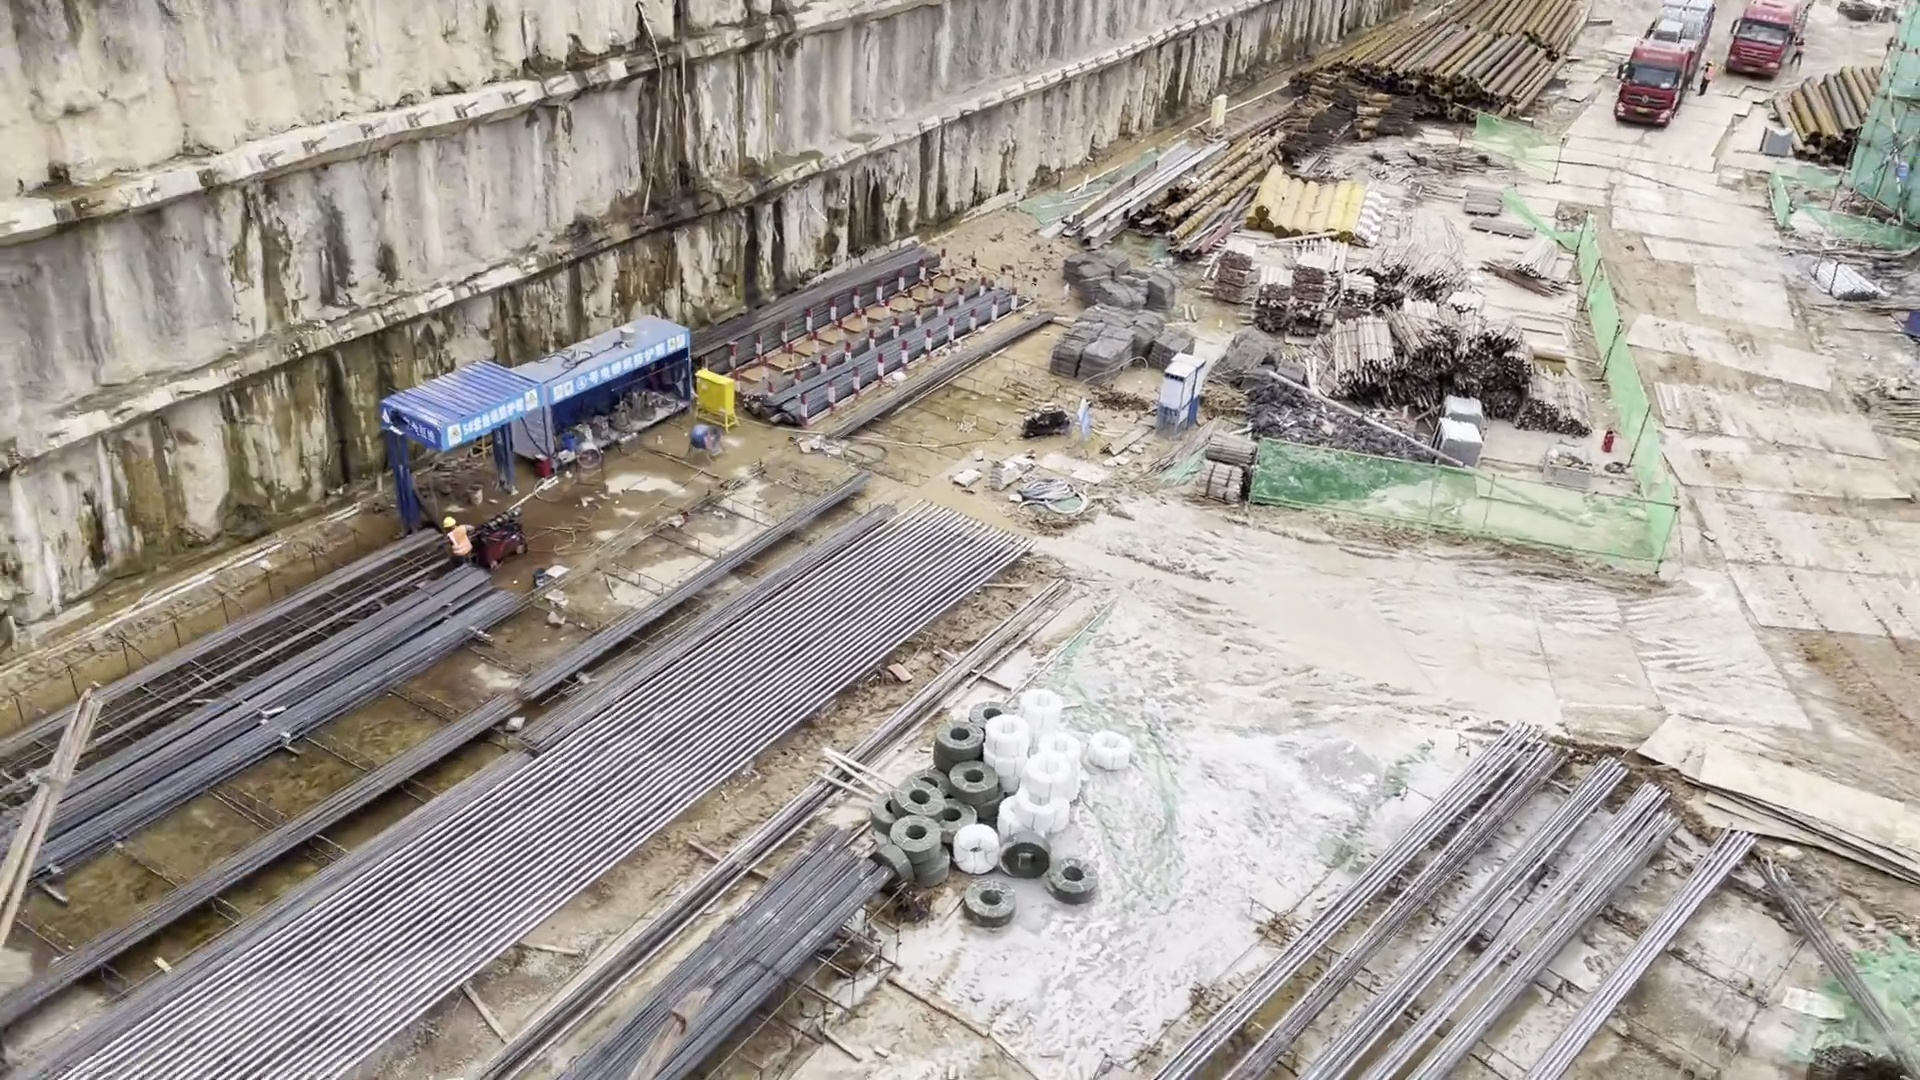ebox: (693, 368, 742, 431)
helmet: (444, 518, 455, 527)
hopper: (1545, 441, 1595, 489)
person: (440, 518, 480, 565), (1699, 62, 1715, 101), (1795, 35, 1805, 69)
rebar: (1141, 719, 1755, 1080), (2, 527, 526, 881), (551, 822, 899, 1078), (689, 237, 1058, 450)
scaffold: (1435, 389, 1484, 468), (1814, 257, 1884, 308)
slogan: (550, 332, 686, 406), (443, 385, 542, 451)
vest: (446, 527, 472, 554)
wood: (1300, 303, 1594, 434), (1209, 237, 1465, 314)
